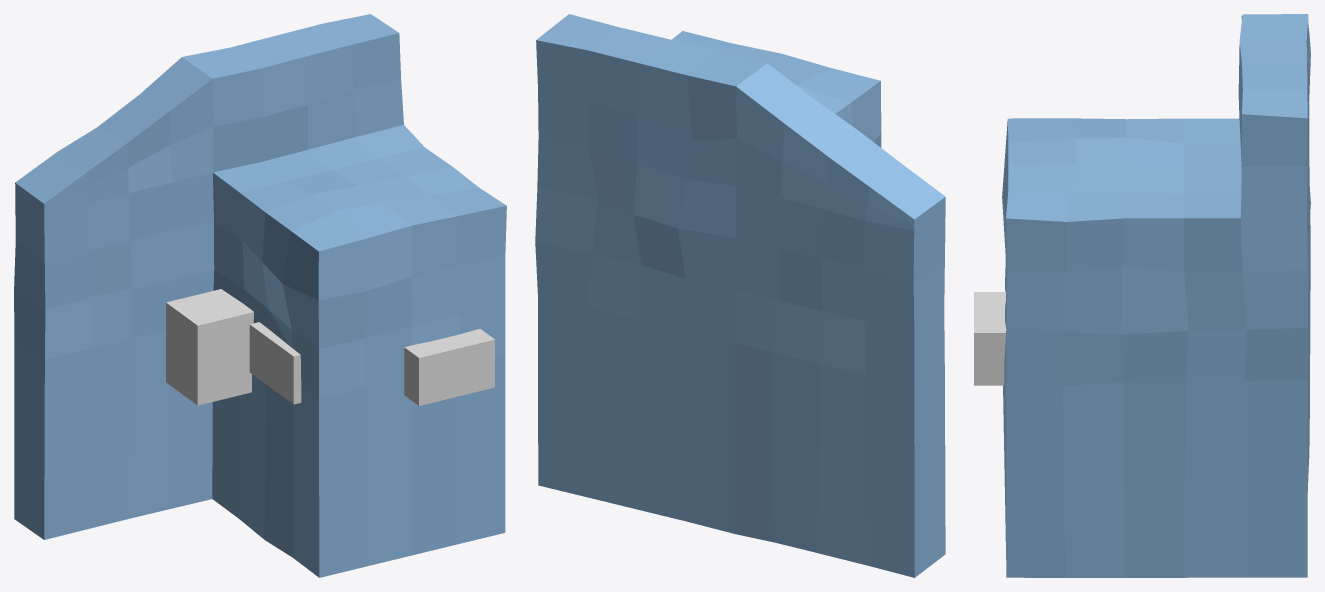
File: Bakey.fbx
The picture shows the model from 3 angles, left to right: view 1: azimuth 30°, elevation 25°; view 2: azimuth 150°, elevation 25°; view 3: azimuth 270°, elevation 25°; orthographic projection. The views are drawn at different scales.
Parts seen in each view (by area): view 1: House, Cube.002, Cube.004, Cube.003; view 2: House; view 3: House, Cube.004.
Part boxes in pixels (box(x1,y1,x2,y2)): House: box(14, 14, 506, 577); Cube.002: box(166, 289, 253, 405); Cube.004: box(404, 329, 494, 405); Cube.003: box(249, 322, 301, 404); House: box(535, 14, 945, 577); House: box(1002, 14, 1310, 577); Cube.004: box(974, 292, 1006, 385).
Size of the model in its own units: 387 by 434 by 285.
